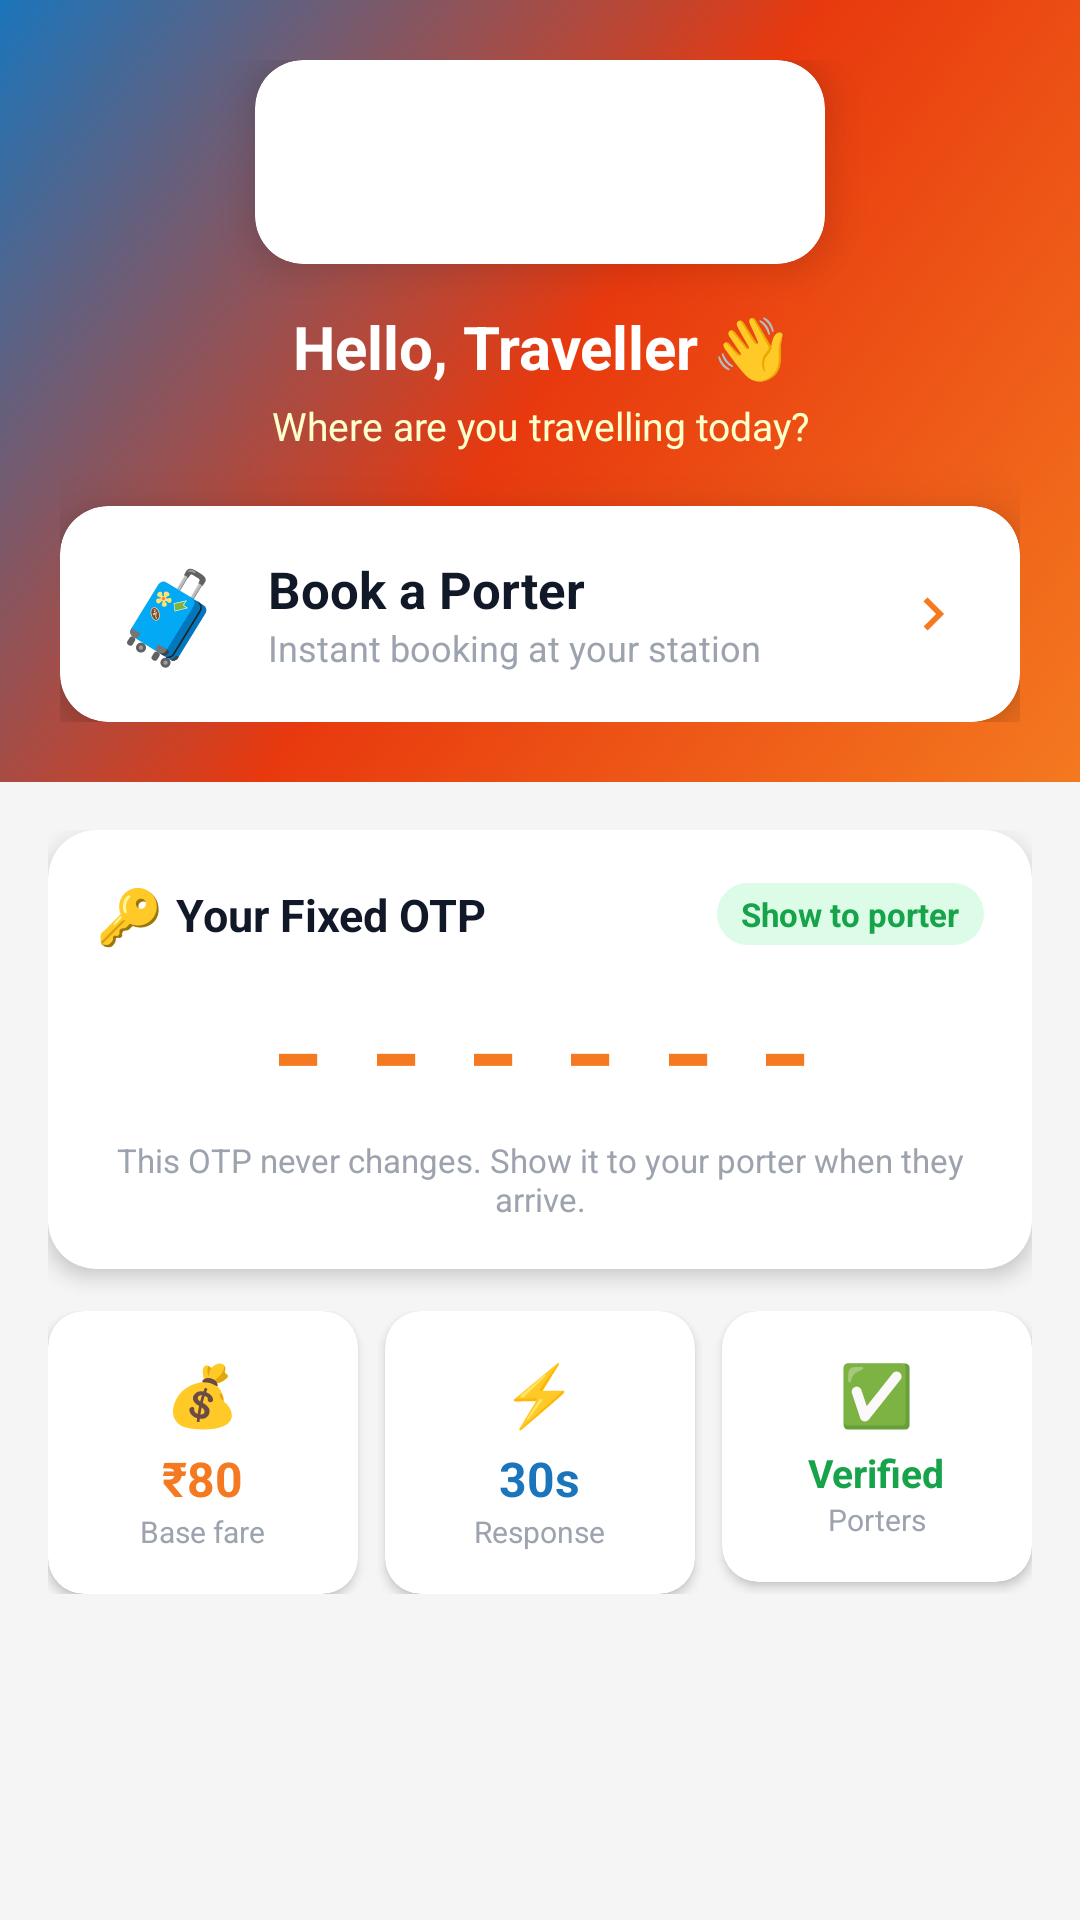

Icons on this 1080×1920 Android screen, each with the point to tap as (x=x, y=y):
arrow right: (x=933, y=614)
